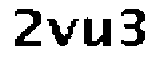2: (11, 6, 44, 48)
3: (118, 5, 149, 50)
u: (78, 15, 115, 51)
v: (44, 13, 80, 47)
